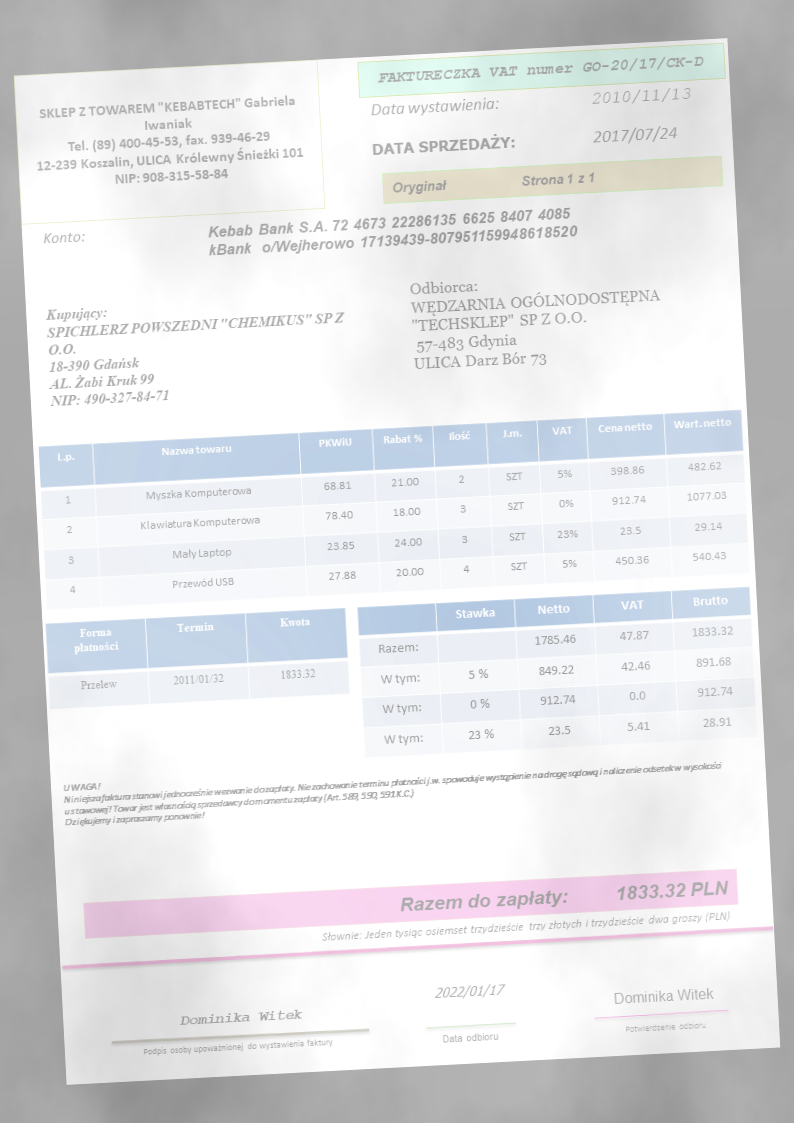Table: (35, 405, 752, 611), (354, 585, 759, 759), (44, 606, 349, 711)
TextBox: (59, 745, 724, 831), (43, 291, 352, 413), (406, 263, 668, 379), (31, 87, 309, 194), (203, 201, 581, 263), (319, 907, 735, 945), (395, 875, 733, 917), (373, 51, 711, 86), (388, 168, 598, 199), (139, 1035, 335, 1059), (368, 130, 518, 159), (368, 92, 501, 120), (175, 1006, 307, 1030), (610, 982, 718, 1008), (590, 82, 693, 107), (590, 122, 678, 148), (433, 977, 512, 1003), (623, 1017, 708, 1039), (38, 225, 90, 250), (437, 1029, 501, 1047)
